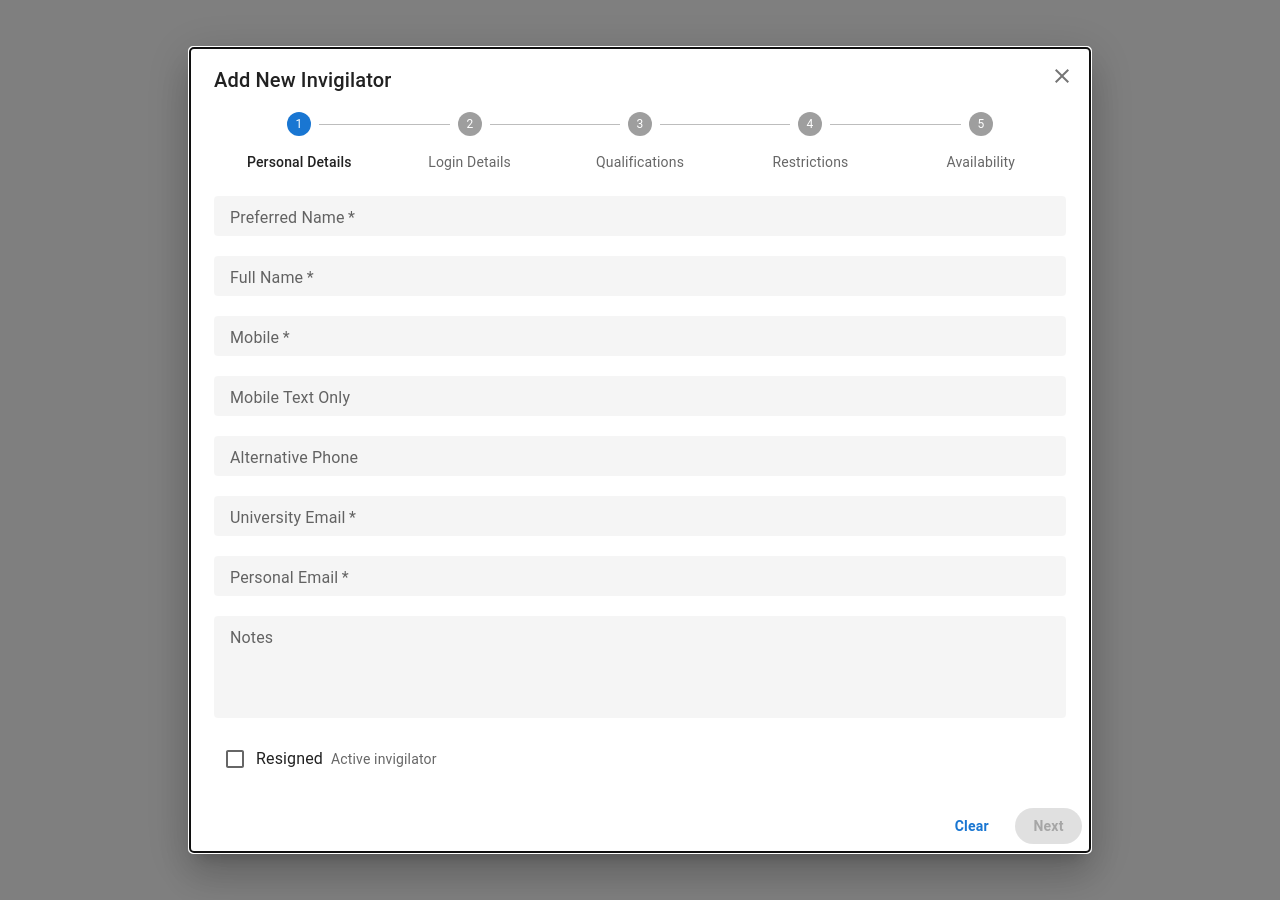
Test: AddInvigilatorDialog › clears draft fields when Clear is clicked
Type "Alex" into the field labelled "Preferred Name *" at [640, 216], box [230,205,1050,228]
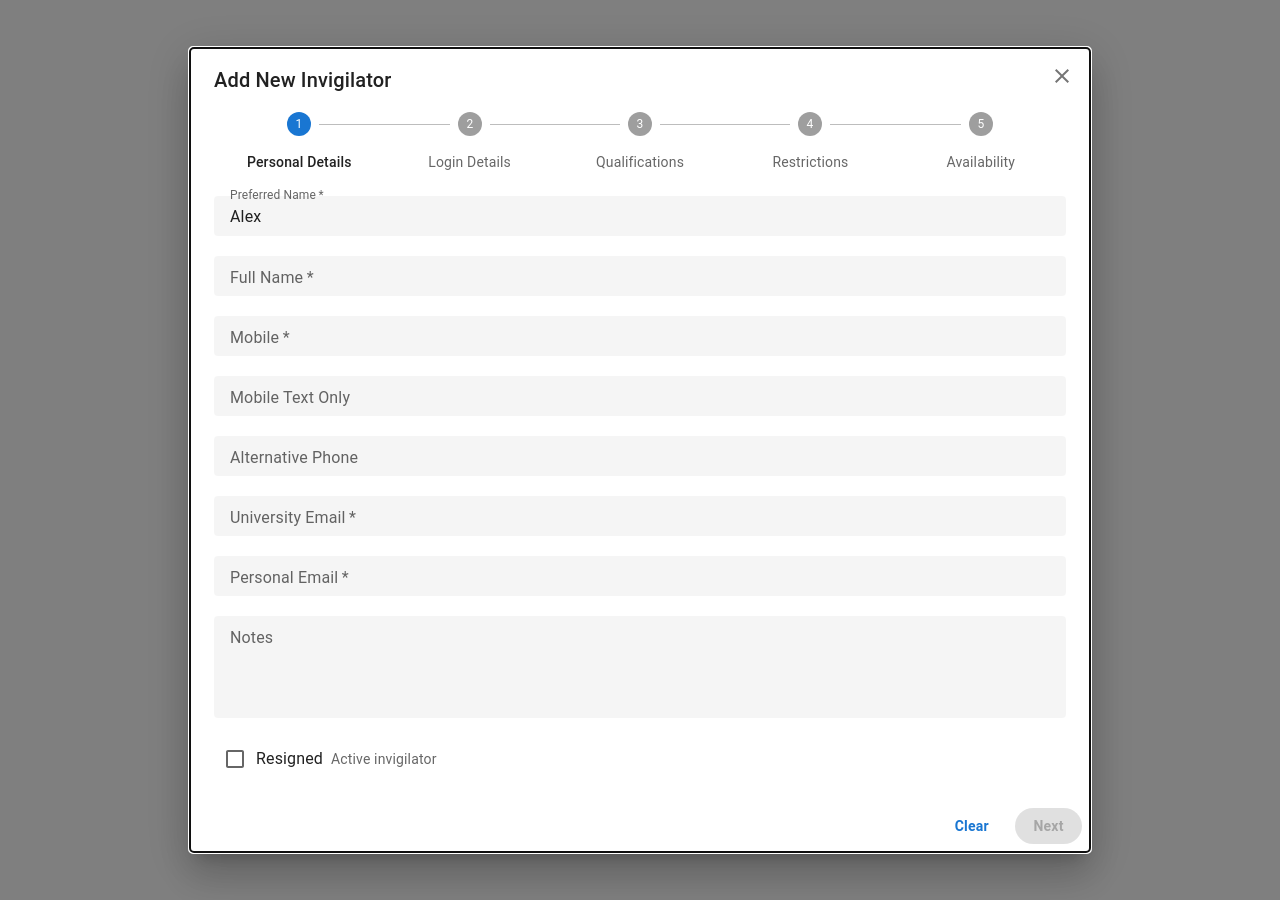
Type "Alex Smith" into the field labelled "Full Name *" at [640, 276], box [230,265,1050,288]
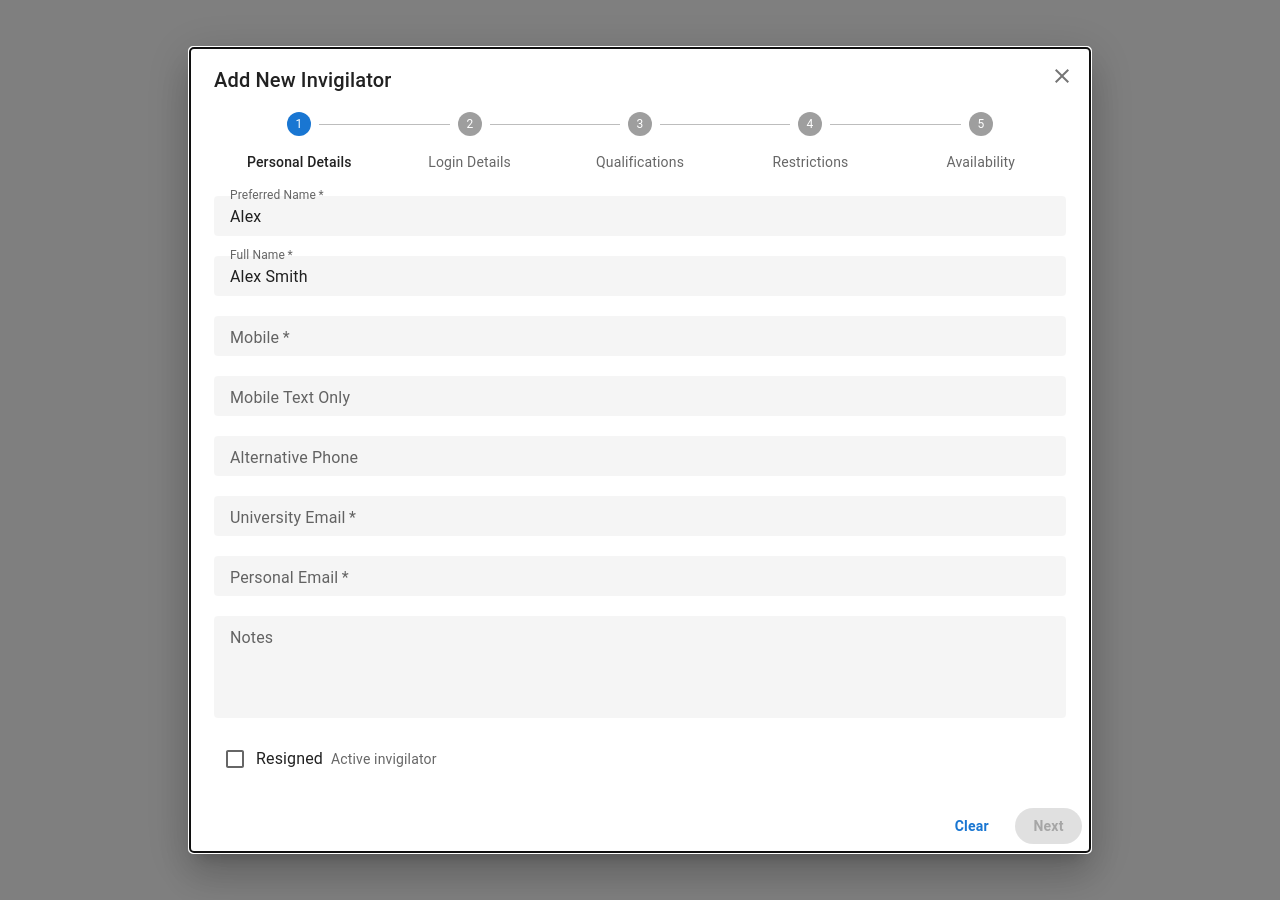
Type "alex@uni.edu" into the field labelled "University Email *" at [640, 516], box [230,505,1050,528]
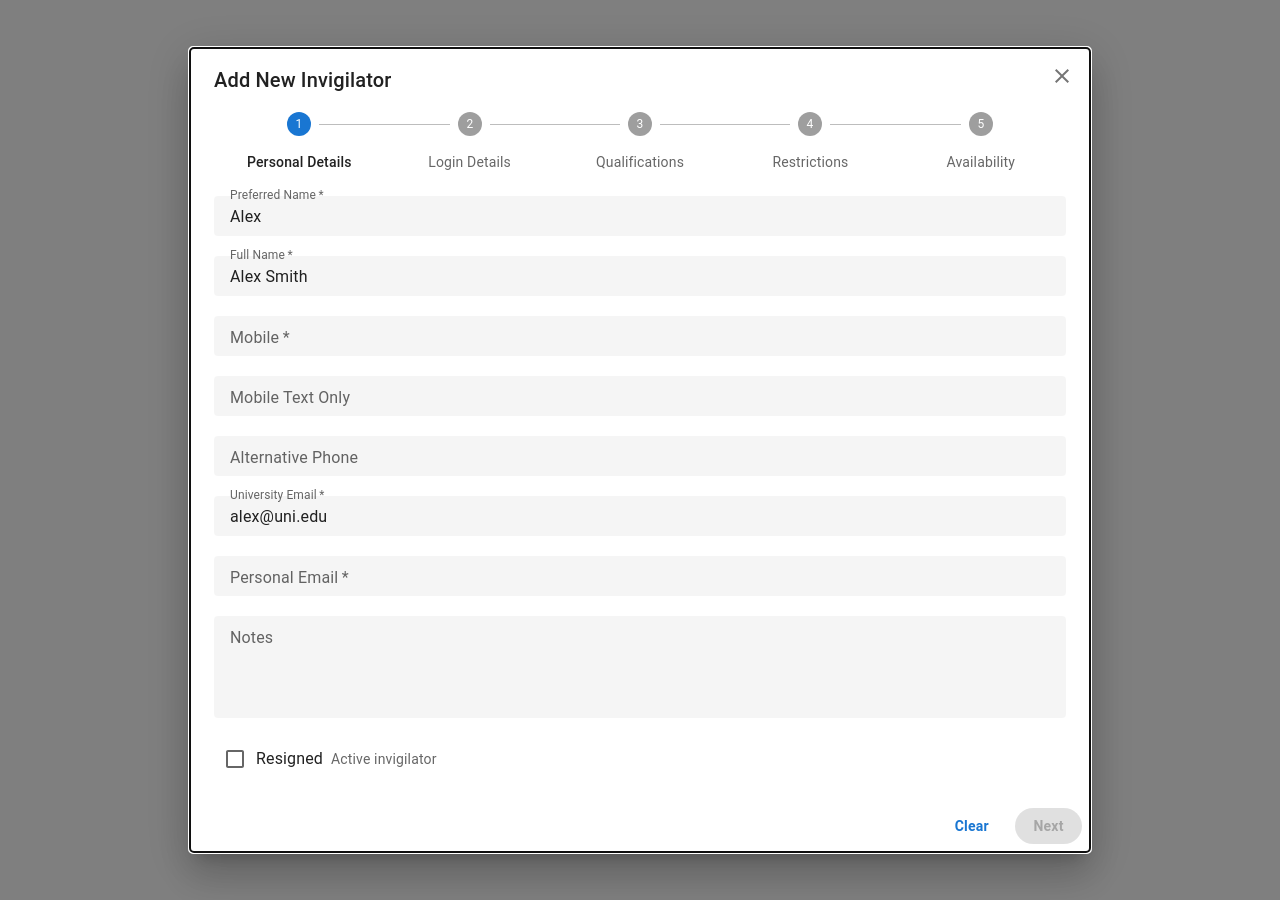
Type "alex@example.com" into the field labelled "Personal Email *" at [640, 576], box [230,565,1050,588]
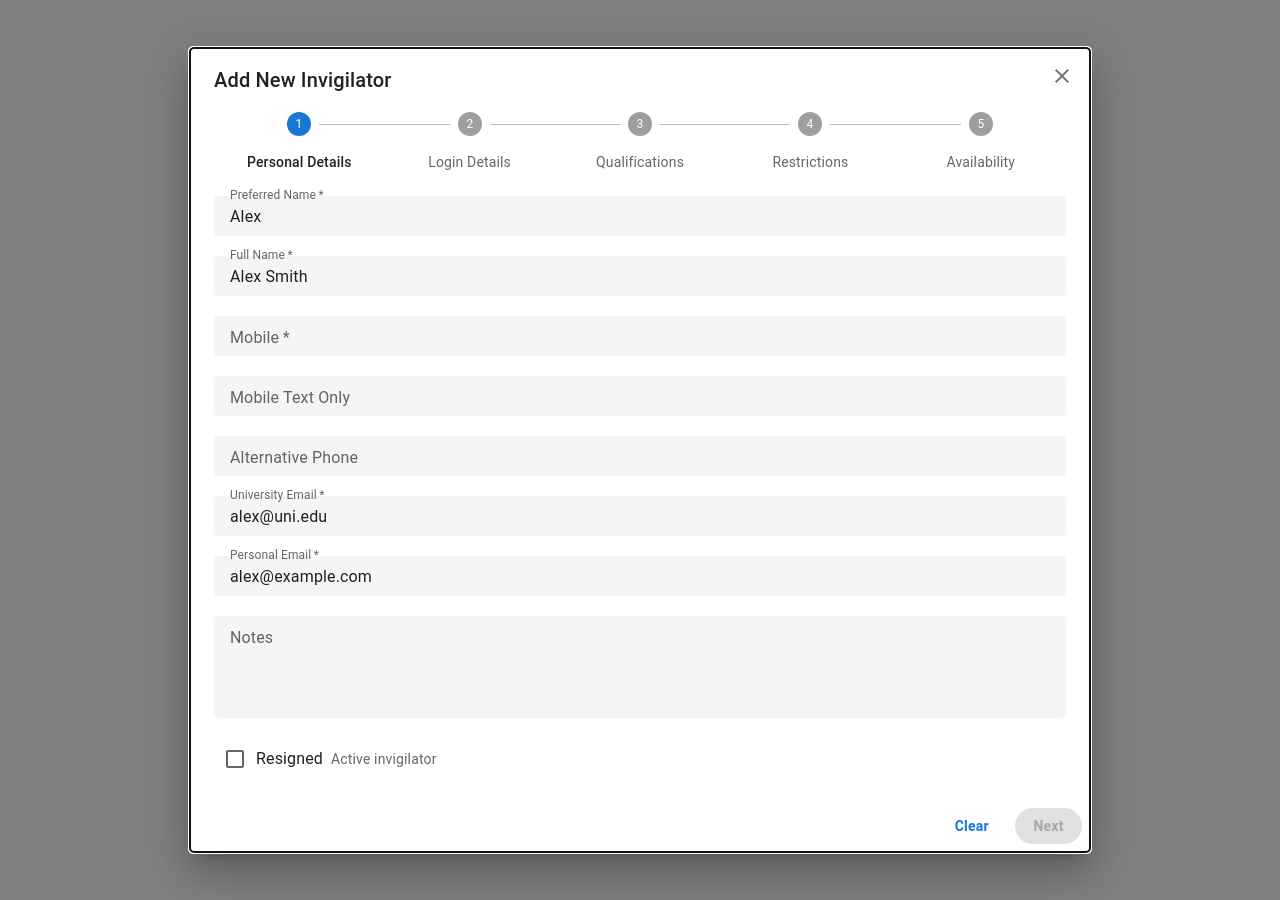
Click the button "Clear" at [972, 826], box [936,808,1007,844]
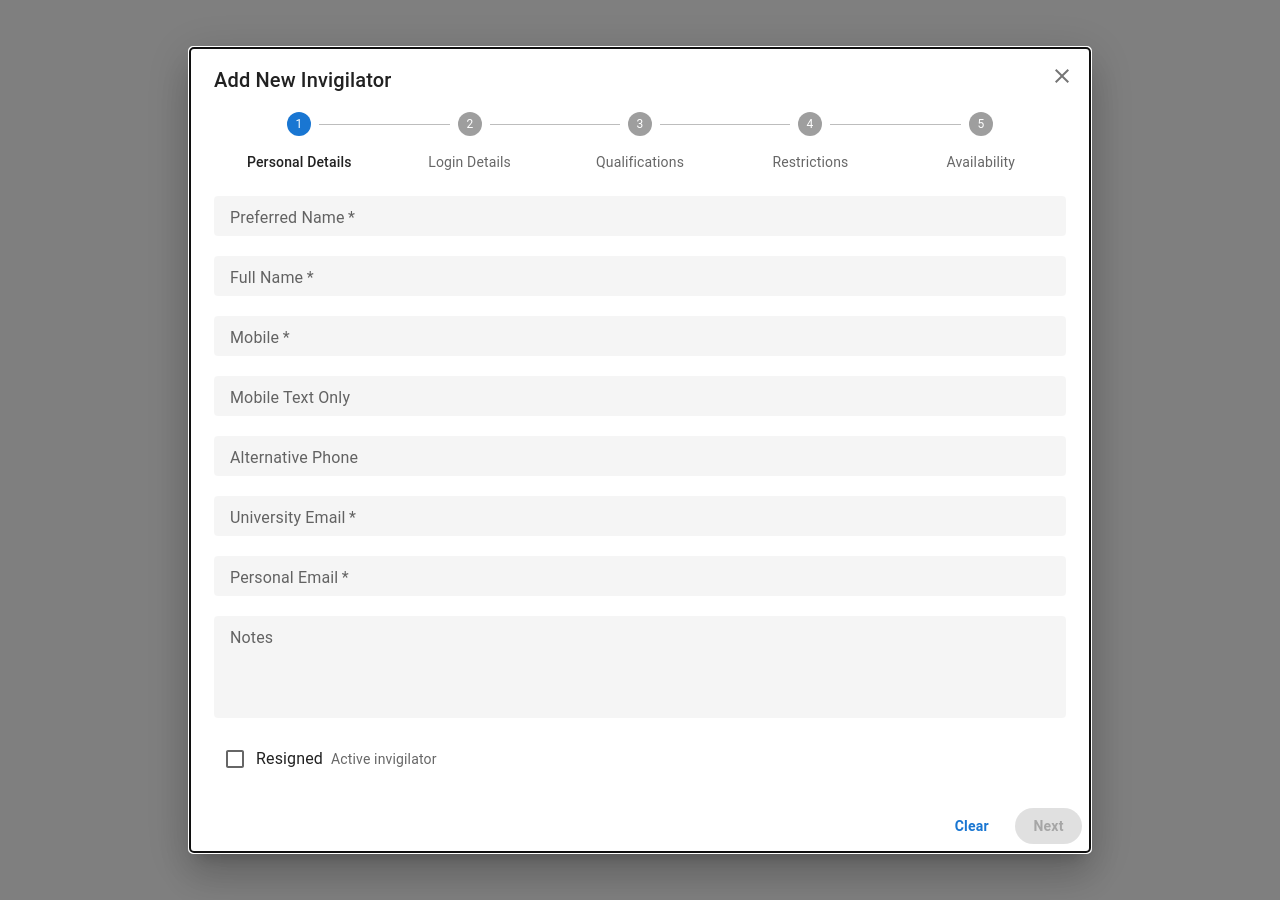
expect the field labelled "Preferred Name *" is empty: met, box [230,205,1050,228]
expect the field labelled "Full Name *" is empty: met, box [230,265,1050,288]
